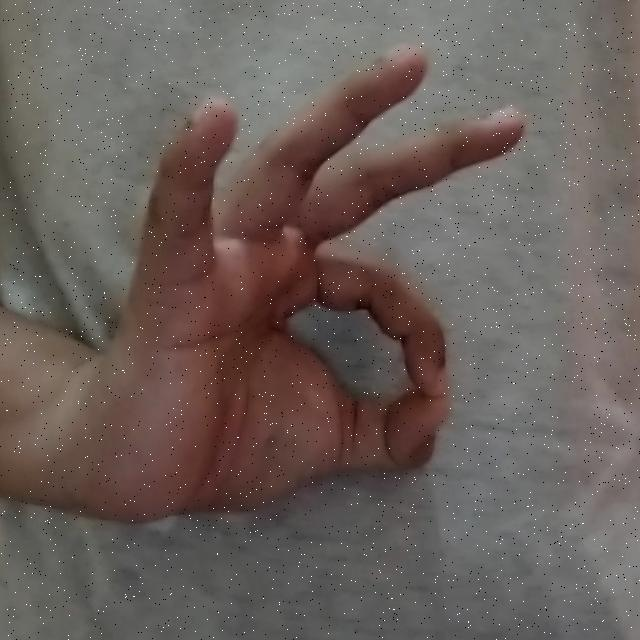O: (105, 37, 538, 557)
